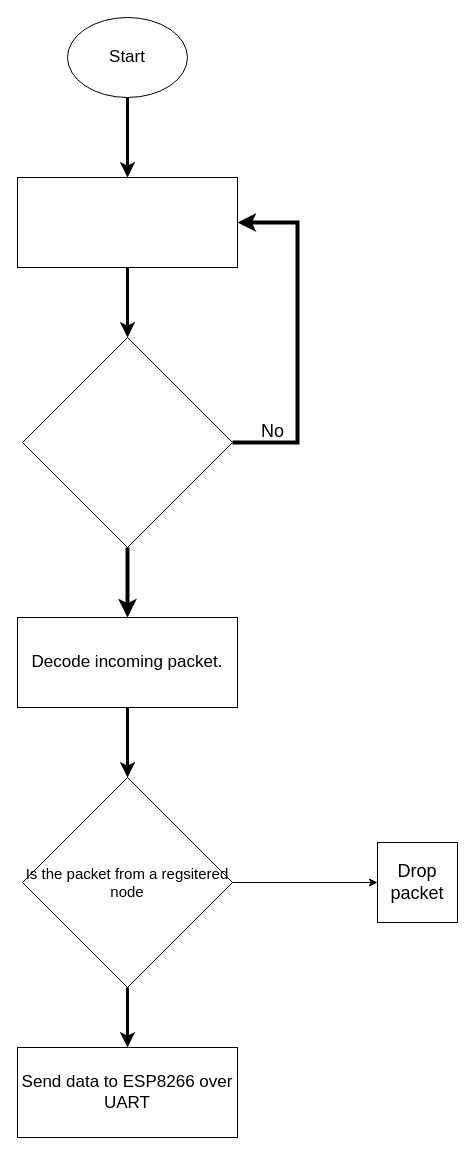
The diagram is 475 pixels wide and 1155 high, and some of its shapes have lost their labels. The centre of each missing label's shape, as x and y in pixels:
Received LoRa packet from LoRa client: point 127,442
Set LoRa receiving mode and listen for 5 seconds: point 127,222
